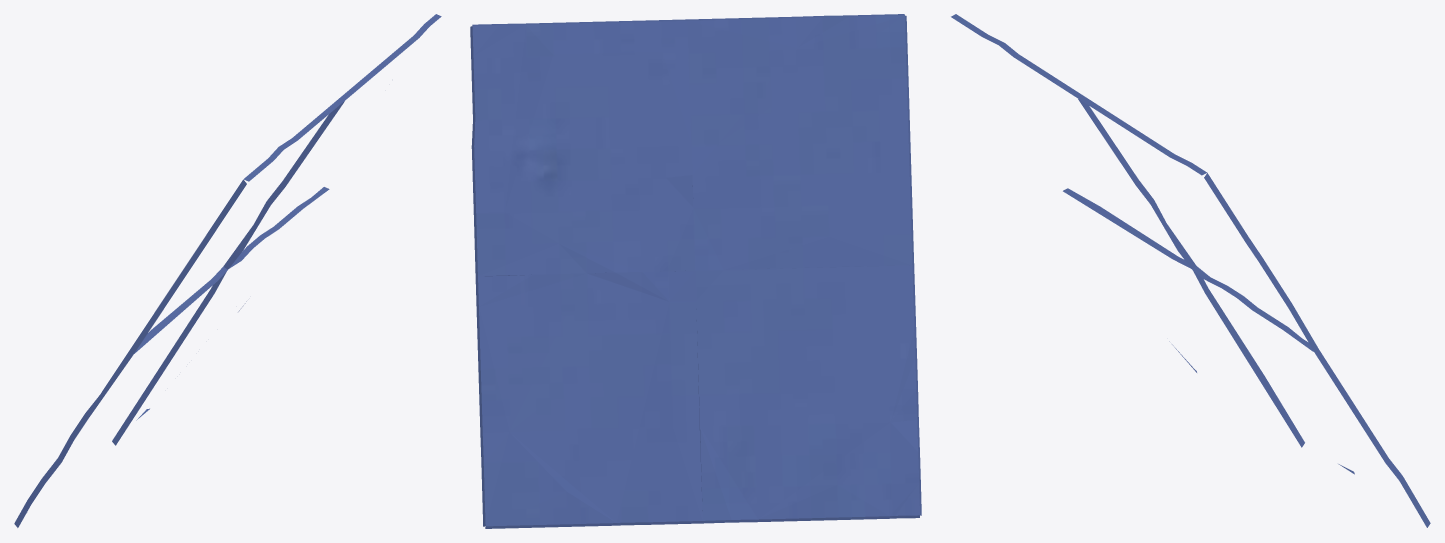
The picture shows the model from 3 angles, left to right: view 1: azimuth 30°, elevation 25°; view 2: azimuth 150°, elevation 25°; view 3: azimuth 270°, elevation 25°; orthographic projection. The views are drawn at different scales.
Size of the model in its own units: 78843 by 68323 by 71448.
1 material, 1 textured.
